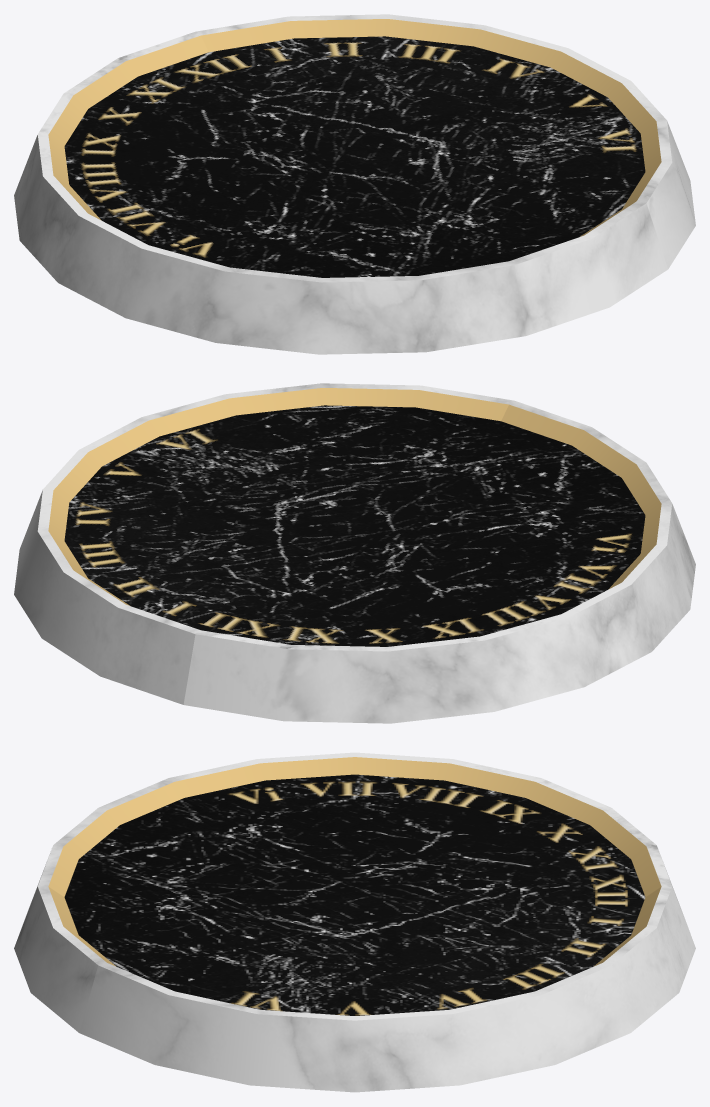
File: Sundial_clock.fbx
3 renders of one model, top to bottom at view 1: azimuth 30°, elevation 25°; view 2: azimuth 150°, elevation 25°; view 3: azimuth 270°, elevation 25°, orthographic.
Parts seen in each view (by area): view 1: pCylinder1; view 2: pCylinder1; view 3: pCylinder1.
Boxes of the visible parts, x1,y1,x2,y2 form: pCylinder1: [14, 14, 695, 354]; pCylinder1: [14, 383, 695, 723]; pCylinder1: [14, 752, 695, 1092].
Bounding box in the file's own units: 4.24 × 0.4237 × 4.24.
